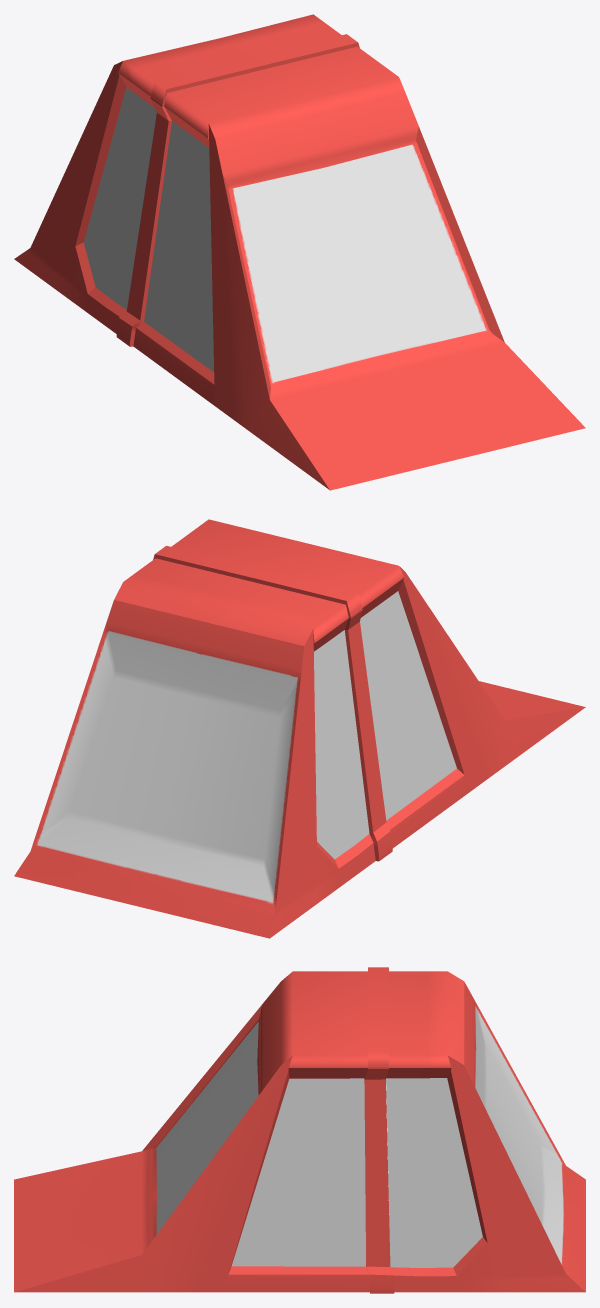
File: CLASSIC-TOP-eKaYPYz3.glb
3 renders of one model, top to bottom at view 1: azimuth 30°, elevation 25°; view 2: azimuth 150°, elevation 25°; view 3: azimuth 270°, elevation 25°, orthographic. The views are drawn at different scales.
Size of the model in its own units: 1.54 by 1.4 by 3.21.
Materials: 1 (1 with a texture image).
